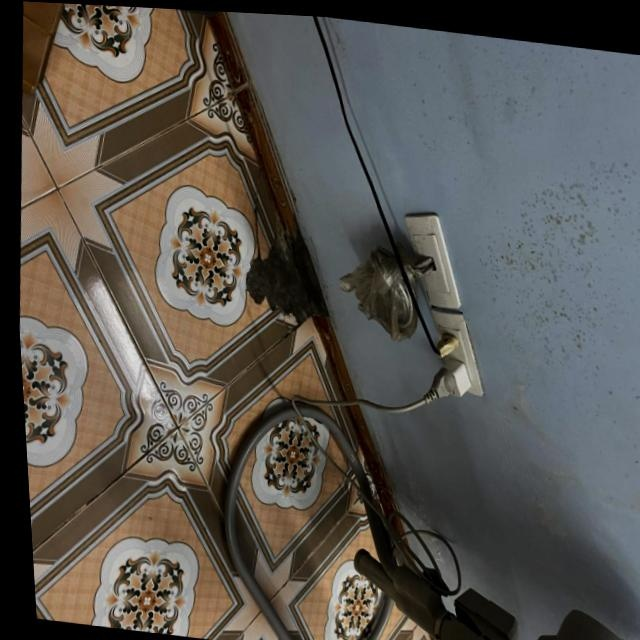outlet: (397, 208, 466, 309), (422, 306, 489, 399)
